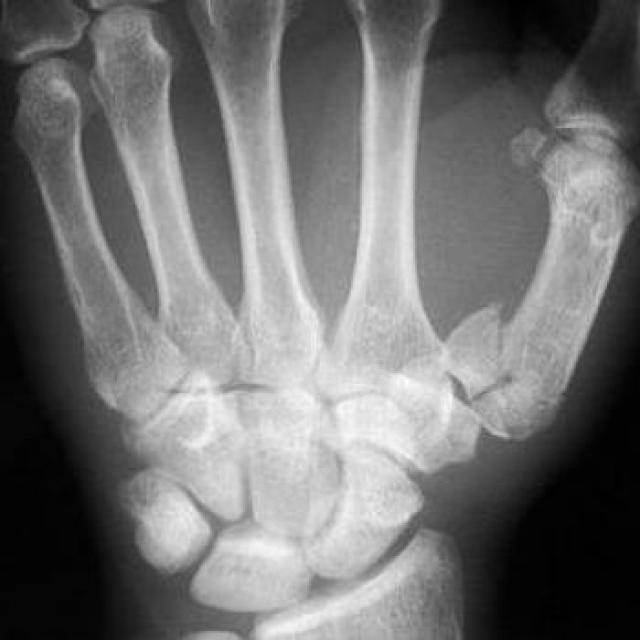fracture: (431, 285, 540, 417)
